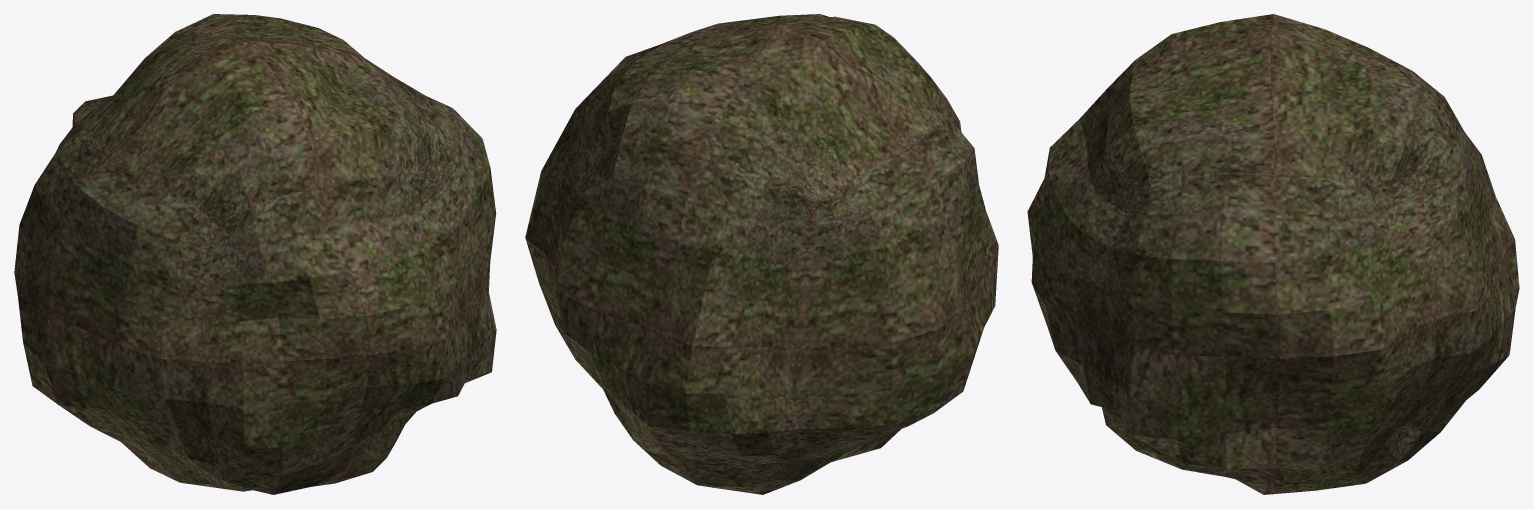
Rendered from SM_EC_Rock_94.fbx.
3 renders of one model, left to right at view 1: azimuth 30°, elevation 25°; view 2: azimuth 150°, elevation 25°; view 3: azimuth 270°, elevation 25°, orthographic.
Visible parts, largest first — view 1: SM_EC_Rock_94; view 2: SM_EC_Rock_94; view 3: SM_EC_Rock_94.
Part boxes in pixels (left/top/right/bottom): SM_EC_Rock_94: left=14, top=14, right=496, bottom=494; SM_EC_Rock_94: left=525, top=14, right=998, bottom=494; SM_EC_Rock_94: left=1027, top=14, right=1519, bottom=494.
Size of the model in its own units: 2.05 by 2.09 by 2.07.
